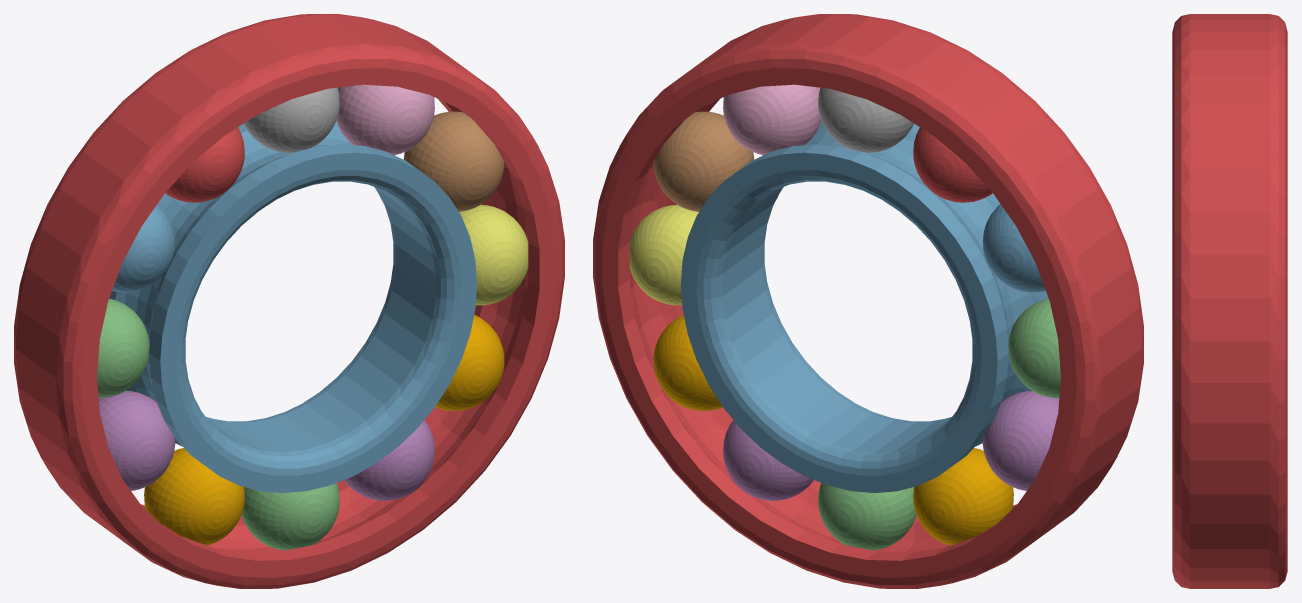
3 views of the same model, side by side, from view 1: azimuth 30°, elevation 25°; view 2: azimuth 150°, elevation 25°; view 3: azimuth 270°, elevation 25° (orthographic).
Parts seen in each view (by area): view 1: g0, g1, g13, g6, g7, g12, g2, g5, g8, g11, g3, g4 (+2 smaller); view 2: g0, g1, g13, g6, g7, g12, g2, g5, g8, g11, g3, g4 (+2 smaller); view 3: g0.
Boxes of the visible parts, bbox=[...] form: g0: bbox=[14, 14, 564, 588]; g1: bbox=[109, 121, 477, 492]; g13: bbox=[144, 448, 244, 545]; g6: bbox=[403, 111, 504, 211]; g7: bbox=[336, 84, 434, 155]; g12: bbox=[98, 391, 175, 490]; g2: bbox=[241, 483, 339, 550]; g5: bbox=[459, 205, 528, 305]; g8: bbox=[244, 87, 339, 152]; g11: bbox=[97, 298, 149, 398]; g3: bbox=[344, 420, 434, 500]; g4: bbox=[435, 315, 504, 410]; g0: bbox=[593, 14, 1143, 588]; g1: bbox=[680, 121, 1048, 492]; g13: bbox=[913, 448, 1013, 545]; g6: bbox=[653, 111, 754, 211]; g7: bbox=[723, 84, 821, 155]; g12: bbox=[982, 391, 1059, 490]; g2: bbox=[818, 483, 916, 550]; g5: bbox=[629, 205, 698, 305]; g8: bbox=[818, 87, 913, 152]; g11: bbox=[1008, 298, 1060, 398]; g3: bbox=[723, 420, 813, 500]; g4: bbox=[653, 315, 722, 410]; g0: bbox=[1172, 14, 1287, 588].
Bounding box in the file's own units: 1.9 × 1.89 × 0.38.
